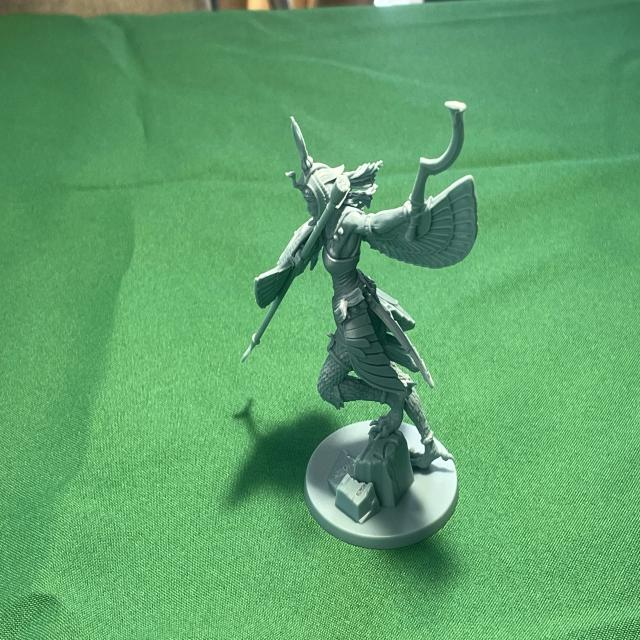isis: (226, 76, 510, 577)
